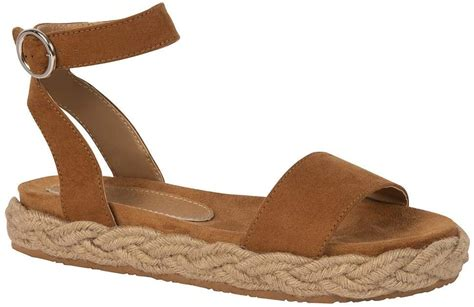gamuza: (13, 2, 458, 255)
